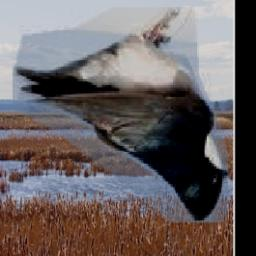Swallow: (14, 7, 229, 223)
